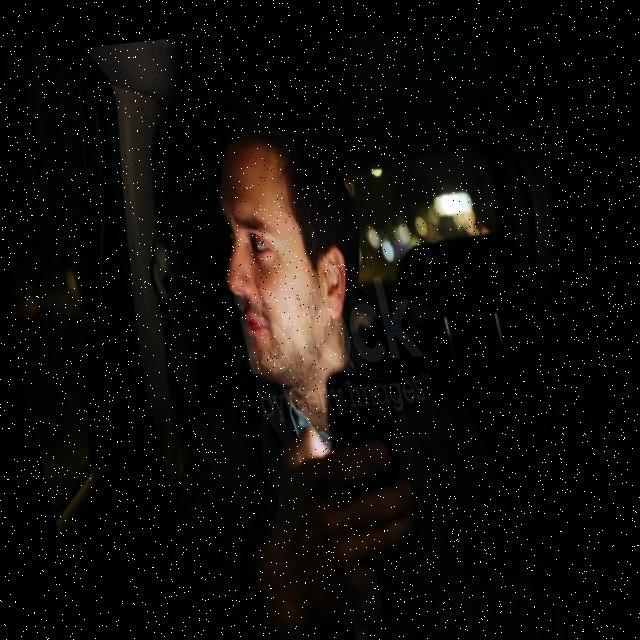PhoneCall: (310, 351, 414, 507)
